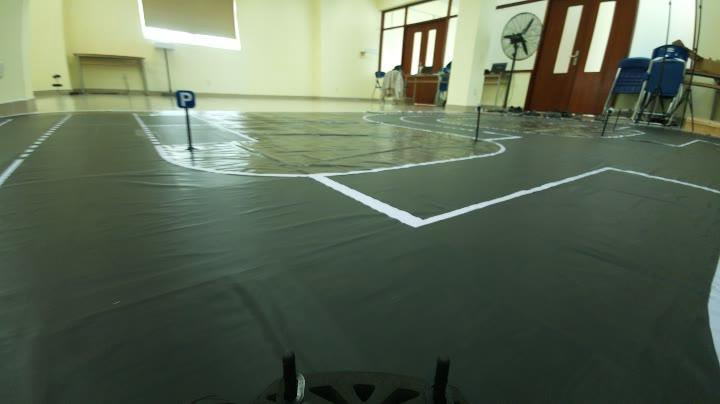parking: (175, 84, 200, 111)
